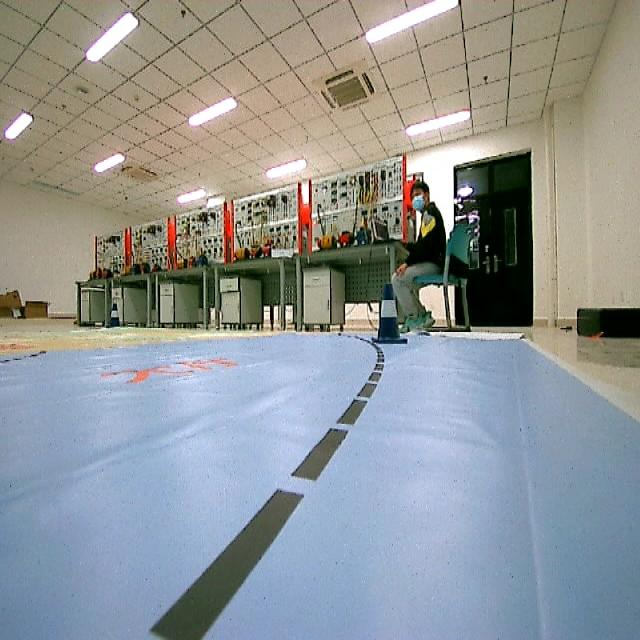obstacle: (374, 279, 408, 346)
